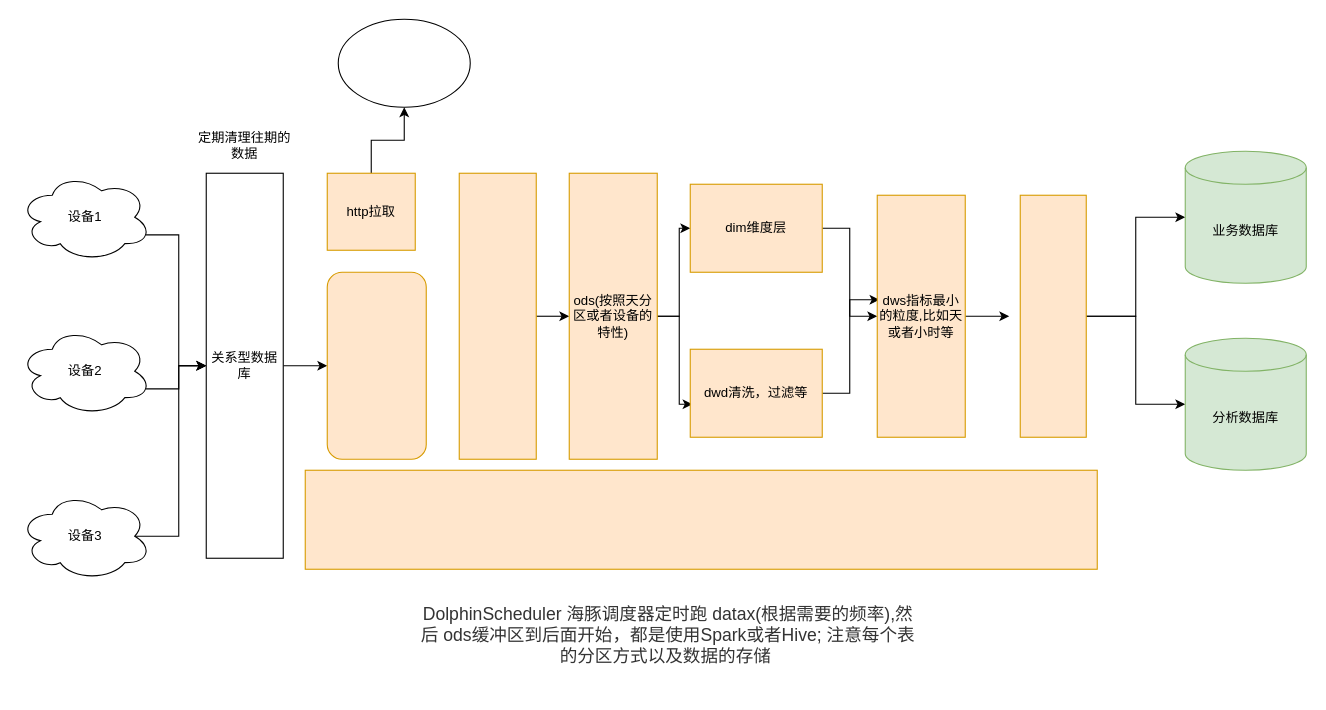
Image size: 1326x710. Some labels were removed from this diagram. Here are the shapes that lost their labels. From the top down, the centre of each, then its label:
[403,62]: 第三方系统
[497,315]: ods缓冲区
[1052,315]: ads层。业务或者大屏需要的分析后的数据
[376,365]: dataX根据时间的频率来拉取
[700,519]: DolphinScheduler 海豚调度器 上面的 HDFS,Yarn,Spark,Hive(Spark on hive 加速计算),Datax
